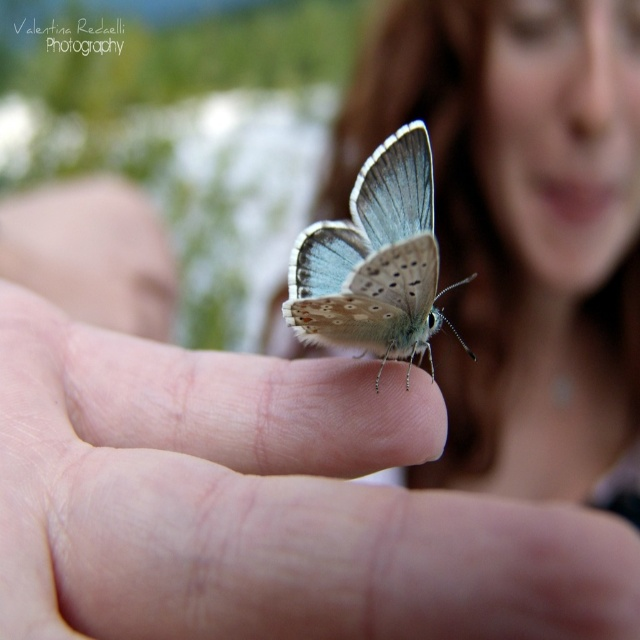Butterfly: (284, 121, 483, 395)
